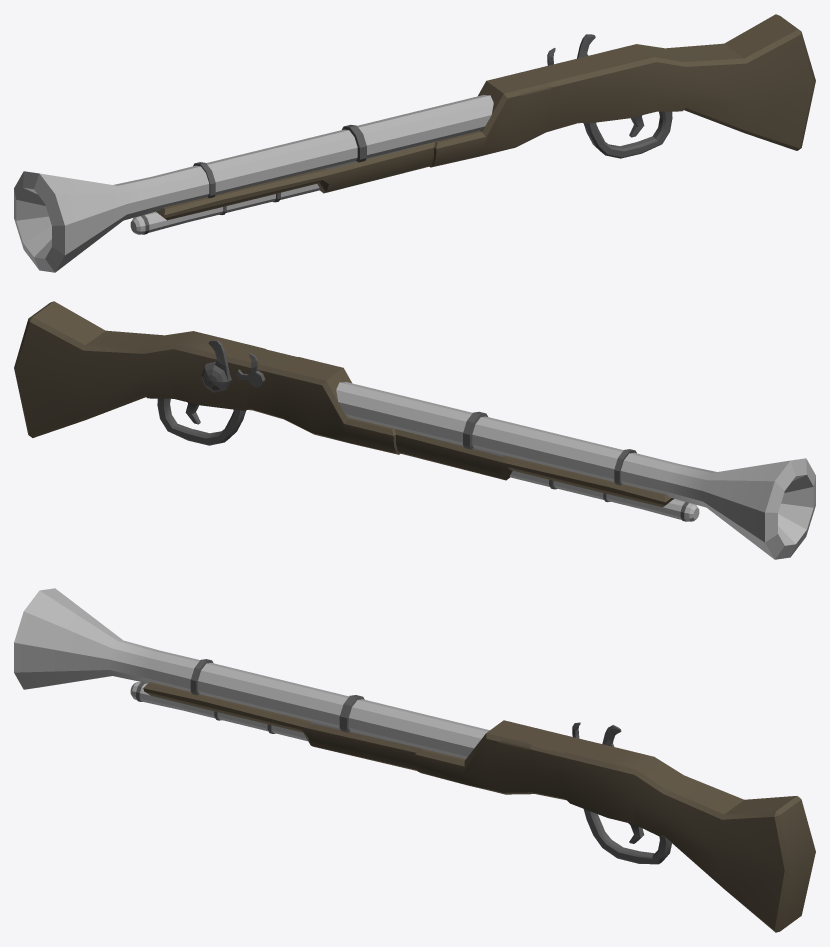
Rendered from Hero_Weapon_Blunderbuss.fbx.
3 views of the same model, one above another, from view 1: azimuth 30°, elevation 25°; view 2: azimuth 150°, elevation 25°; view 3: azimuth 330°, elevation 25° (orthographic).
Parts seen in each view (by area): view 1: pCylinder2; view 2: pCylinder2; view 3: pCylinder2.
Boxes of the visible parts, left/top/right/bottom form: pCylinder2: left=14, top=14, right=815, bottom=272; pCylinder2: left=14, top=301, right=815, bottom=559; pCylinder2: left=14, top=588, right=815, bottom=932.
Size of the model in its own units: 15.27 by 2.89 by 1.75.
